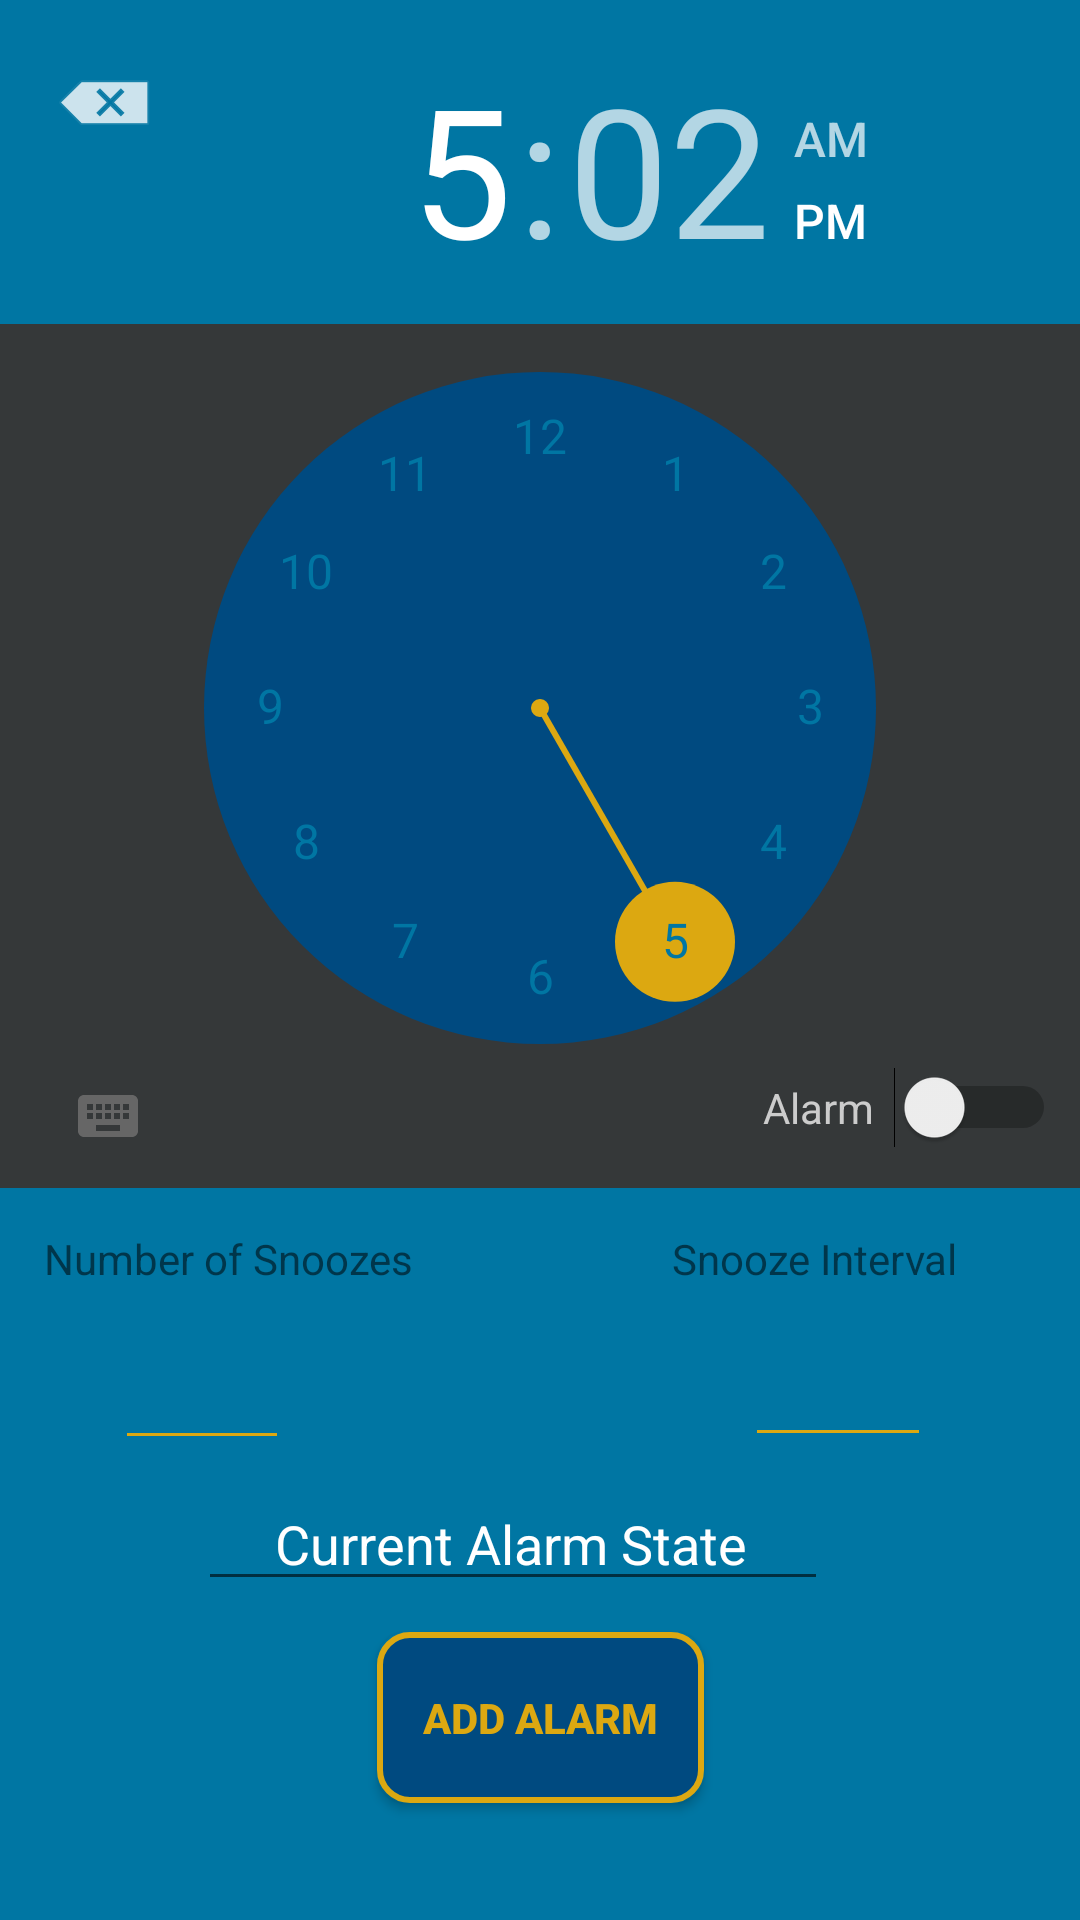

Icons on this 1080 x 1920 Android screen, each with its box as [left=x1, top=y1, right=x2, bottom=y2]:
delete: [left=61, top=82, right=148, bottom=124]
